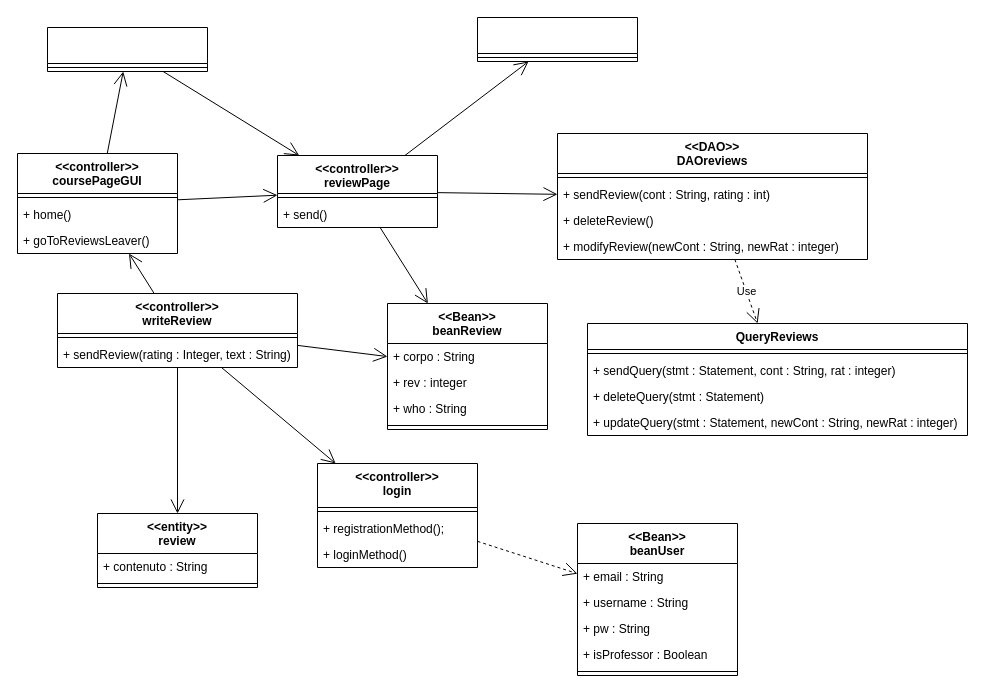
Some shapes in this 985 by 693 pixel diagram are drawn without their labels. Each missing label, with the centre of its shape:
"<<view>> reviewPage" goes at point (557, 39).
"<<view>> writeReviewView" goes at point (127, 49).
